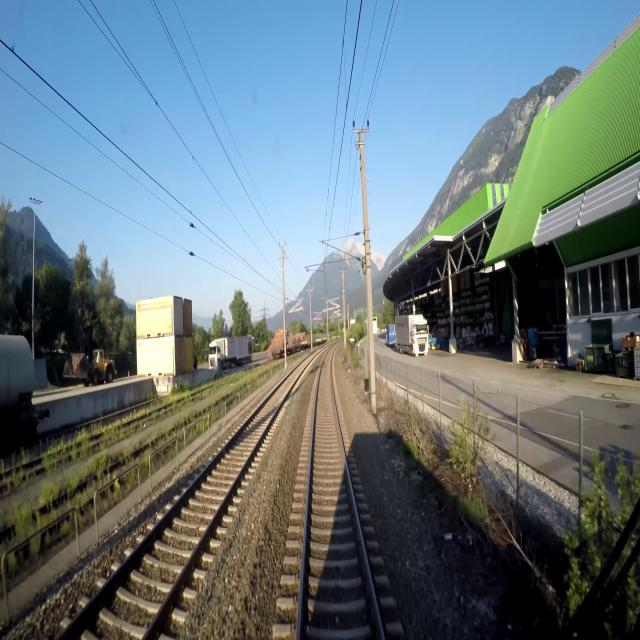rail-track: (58, 359, 308, 639), (300, 351, 380, 639), (0, 447, 75, 482)
